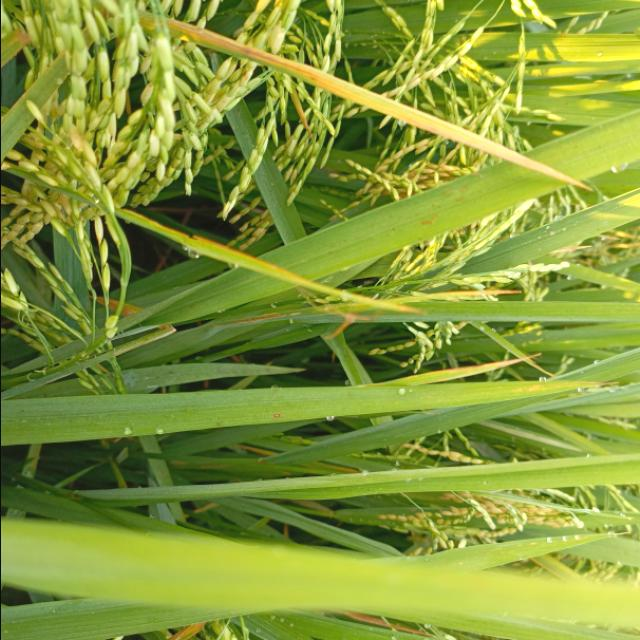Hawar Daun Bakteri: (143, 0, 594, 195)
brown spot: (270, 410, 284, 419)
